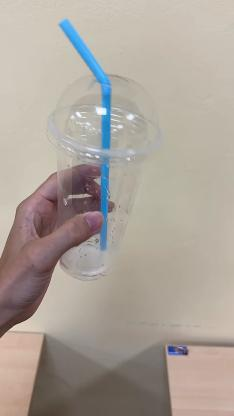Plastic Cup: (44, 71, 162, 279)
